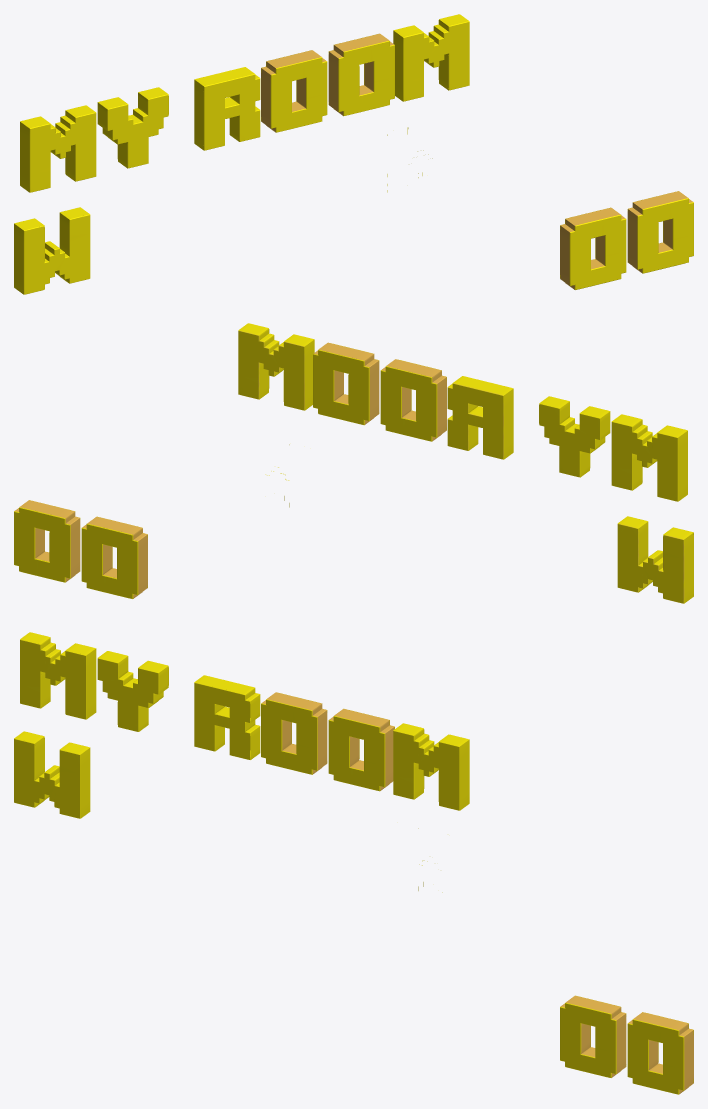
The model's file is myroom_font.glb.
3 renders of one model, top to bottom at view 1: azimuth 30°, elevation 25°; view 2: azimuth 150°, elevation 25°; view 3: azimuth 330°, elevation 25°, orthographic.
Visible parts, largest first — view 1: Object_29, Object_45, Object_45.001, Object_37, Object_30, Object_29.001, Object_50, Object_46.001, Object_46, Object_30.001, Object_51; view 2: Object_30, Object_45, Object_45.001, Object_30.001, Object_51, Object_37, Object_46.001, Object_46; view 3: Object_29, Object_45.001, Object_45, Object_37, Object_30, Object_29.001, Object_50, Object_46, Object_46.001, Object_30.001, Object_51.
Part boxes in pixels (left/top/right/bottom): Object_29: left=23, top=112, right=96, bottom=294; Object_45: left=261, top=50, right=626, bottom=289; Object_45.001: left=328, top=34, right=693, bottom=273; Object_37: left=97, top=87, right=168, bottom=168; Object_30: left=14, top=105, right=95, bottom=294; Object_29.001: left=403, top=21, right=469, bottom=101; Object_50: left=203, top=74, right=260, bottom=150; Object_46.001: left=328, top=33, right=693, bottom=272; Object_46: left=261, top=50, right=625, bottom=289; Object_30.001: left=387, top=14, right=468, bottom=192; Object_51: left=194, top=67, right=259, bottom=150; Object_30: left=611, top=414, right=693, bottom=603; Object_45: left=81, top=359, right=446, bottom=598; Object_45.001: left=14, top=343, right=379, bottom=582; Object_30.001: left=238, top=323, right=314, bottom=507; Object_51: left=447, top=376, right=513, bottom=459; Object_37: left=539, top=396, right=610, bottom=477; Object_46.001: left=14, top=342, right=379, bottom=581; Object_46: left=82, top=359, right=446, bottom=598; Object_29: left=14, top=639, right=86, bottom=818; Object_45.001: left=328, top=709, right=693, bottom=1094; Object_45: left=261, top=693, right=626, bottom=1077; Object_37: left=97, top=651, right=168, bottom=731; Object_30: left=14, top=632, right=96, bottom=818; Object_29.001: left=393, top=730, right=459, bottom=810; Object_50: left=194, top=682, right=250, bottom=759; Object_46: left=262, top=692, right=626, bottom=1077; Object_46.001: left=329, top=709, right=693, bottom=1094; Object_30.001: left=394, top=723, right=469, bottom=892; Object_51: left=194, top=675, right=260, bottom=759.
Bounding box in the file's own units: 1.94 × 0.8148 × 0.0517.
